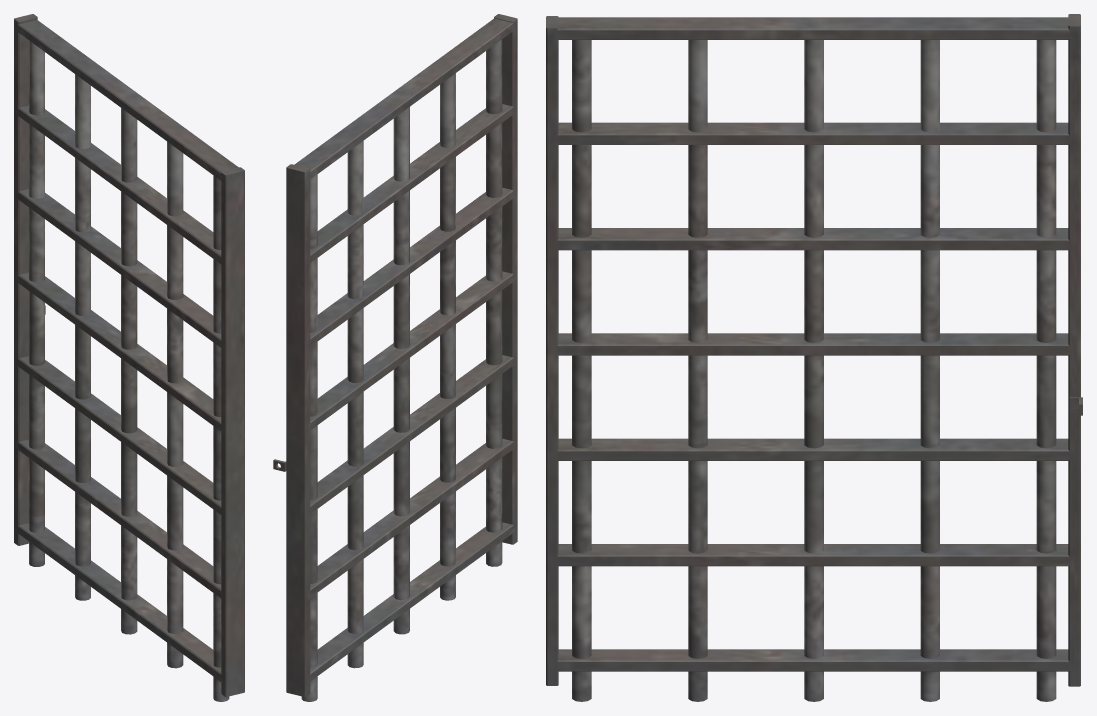
Rendered from SM_Cell_Door.glb.
The picture shows the model from 3 angles, left to right: view 1: azimuth 30°, elevation 25°; view 2: azimuth 150°, elevation 25°; view 3: azimuth 270°, elevation 25°; orthographic projection. The views are drawn at different scales.
Parts seen in each view (by area): view 1: SM_Cell_Door; view 2: SM_Cell_Door; view 3: SM_Cell_Door.
Part boxes in pixels (x1=…): SM_Cell_Door: x1=14, y1=14, x2=244, y2=701; SM_Cell_Door: x1=273, y1=14, x2=517, y2=701; SM_Cell_Door: x1=546, y1=14, x2=1082, y2=701.
Size of the model in its own units: 0.1319 by 2.15 by 1.54.
Materials: 1 (1 with a texture image).
